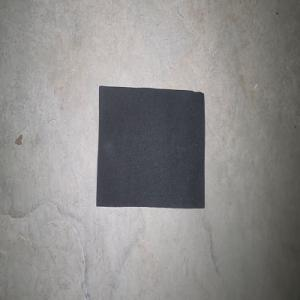PaintChip: (96, 85, 205, 209)
